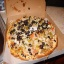olives: (38, 21, 48, 28), (8, 28, 16, 36), (38, 43, 44, 51), (27, 48, 32, 52)
pizza: (4, 16, 59, 59)
